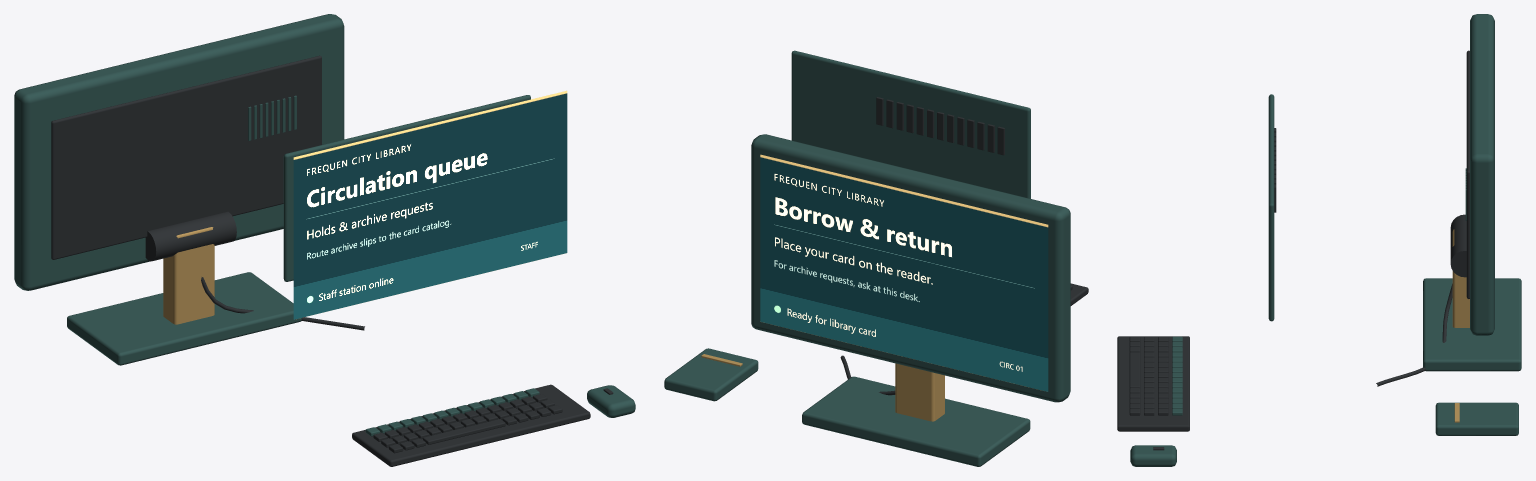
Rendered from library-catalog-terminal.glb.
The picture shows the model from 3 angles, left to right: view 1: azimuth 30°, elevation 25°; view 2: azimuth 150°, elevation 25°; view 3: azimuth 270°, elevation 25°; orthographic projection. The views are drawn at different scales.
Parts seen in each view (by area): view 1: Pivot axle, Staff queue display, Ballasted foot, Tilt yoke; view 2: Reader-facing display, Ballasted foot, Pivot axle, Tilt yoke; view 3: Ballasted foot, Pivot axle, Tilt yoke.
Part boxes in pixels (x1,y1,x2,y2): Pivot axle: [51, 55, 613, 466]; Staff queue display: [293, 90, 567, 319]; Ballasted foot: [14, 14, 635, 436]; Tilt yoke: [163, 227, 214, 324]; Reader-facing display: [760, 154, 1048, 391]; Ballasted foot: [664, 50, 1070, 466]; Pivot axle: [840, 97, 1088, 395]; Tilt yoke: [701, 354, 944, 421]; Ballasted foot: [1130, 14, 1521, 466]; Pivot axle: [1117, 50, 1469, 450]; Tilt yoke: [1452, 229, 1469, 422].
Bounding box in the file's own units: 0.905 × 0.582 × 0.7995.
Materials: 5 (2 with a texture image).
